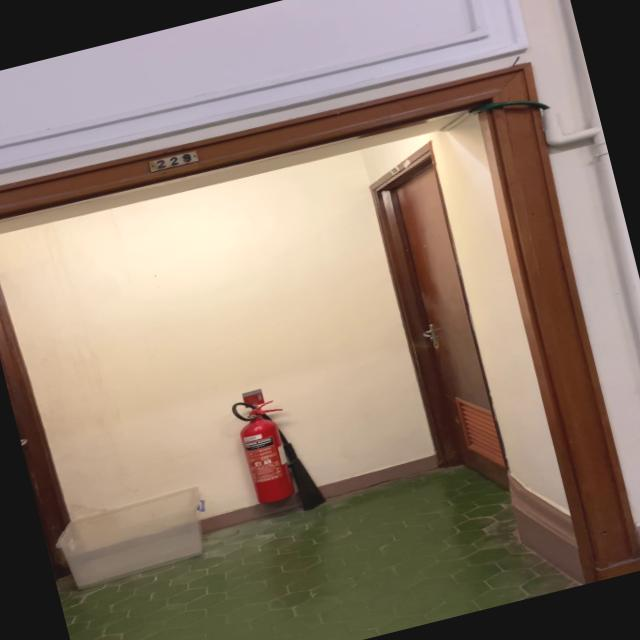room229: (144, 144, 207, 174)
